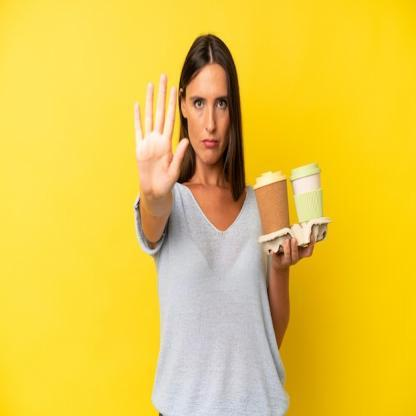stop: (132, 68, 191, 206)
